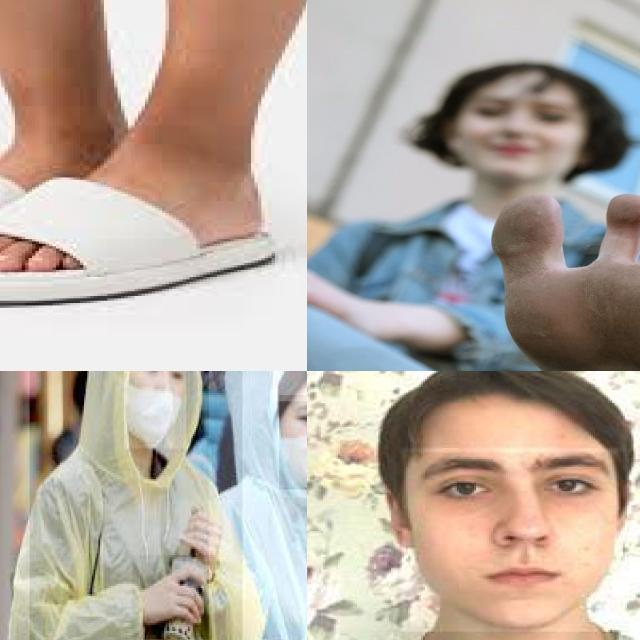Barefoots: (491, 193, 640, 371)
No_Ear-Protection: (376, 482, 424, 558)
No_Glasses: (400, 443, 622, 523), (131, 371, 190, 390), (286, 397, 307, 435)
Sandals: (0, 143, 266, 302)
face_mask: (124, 371, 188, 450), (279, 395, 307, 489)
face_nomask: (402, 448, 618, 632)
hand_noglove: (131, 555, 210, 640), (178, 500, 233, 561)
head_nohelmet: (410, 371, 631, 452), (273, 371, 307, 403)
person: (307, 371, 640, 640), (29, 371, 242, 640), (209, 371, 307, 640)
